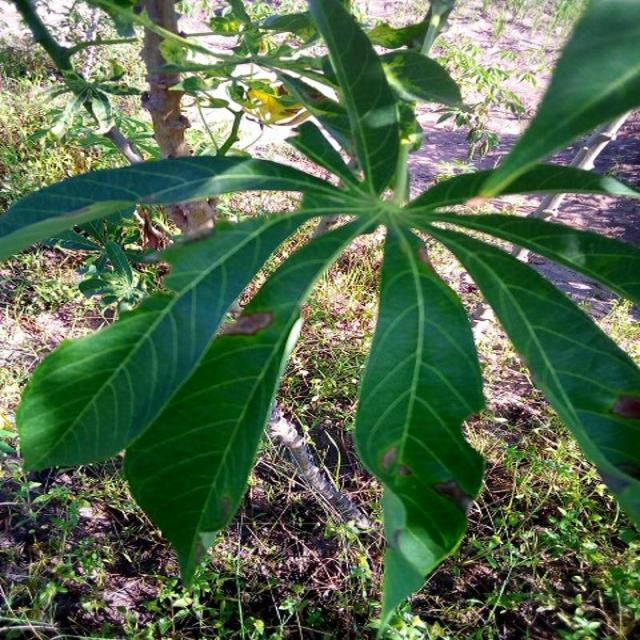cassava leaf: (4, 0, 638, 633), (120, 207, 375, 590), (14, 208, 320, 474), (413, 212, 639, 530), (352, 221, 487, 636)
